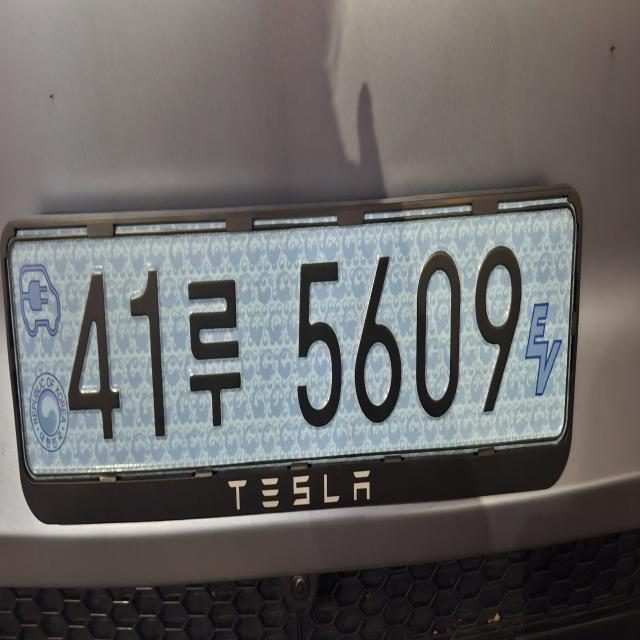car: (5, 163, 603, 541)
carev: (13, 253, 73, 473), (518, 233, 563, 443)
